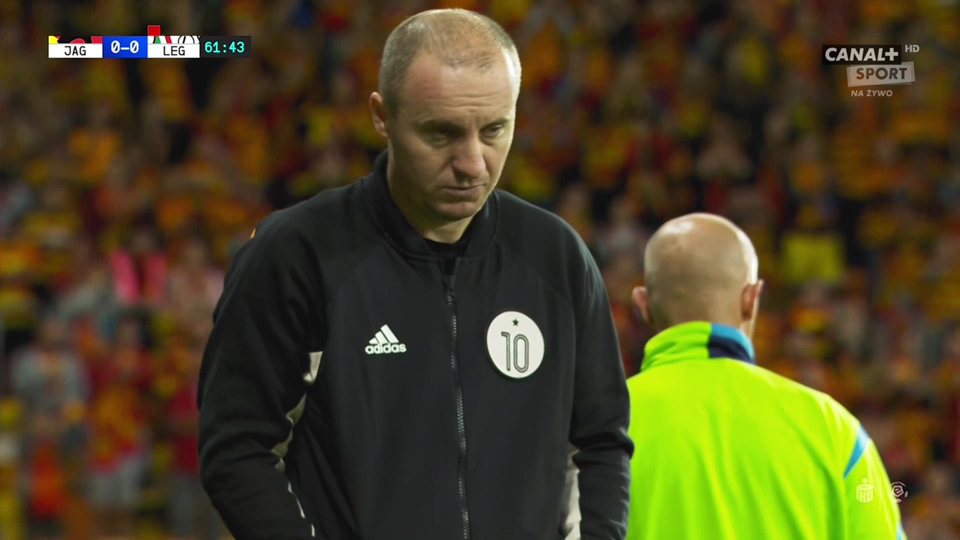Adidas: (363, 321, 409, 356)
